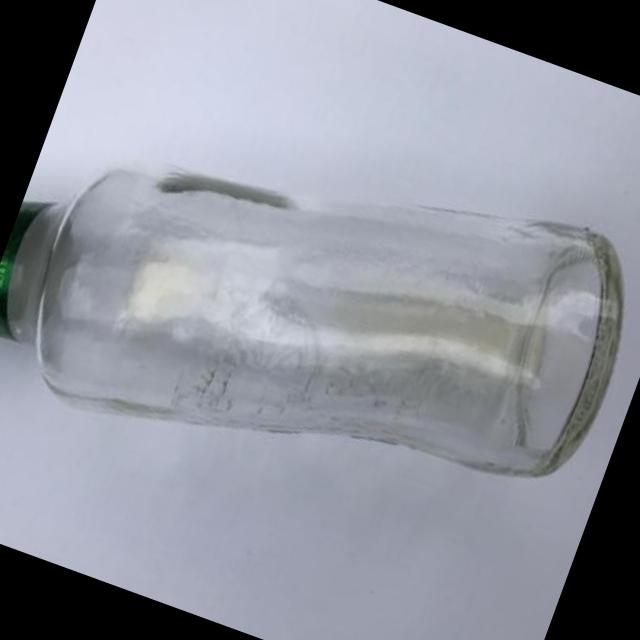BotolKaca: (0, 43, 640, 581)
